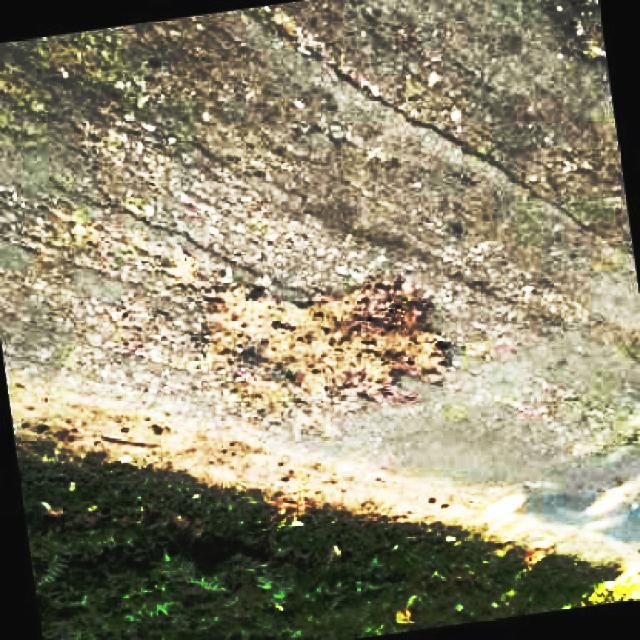pothole: (197, 271, 457, 415), (543, 0, 612, 68)
